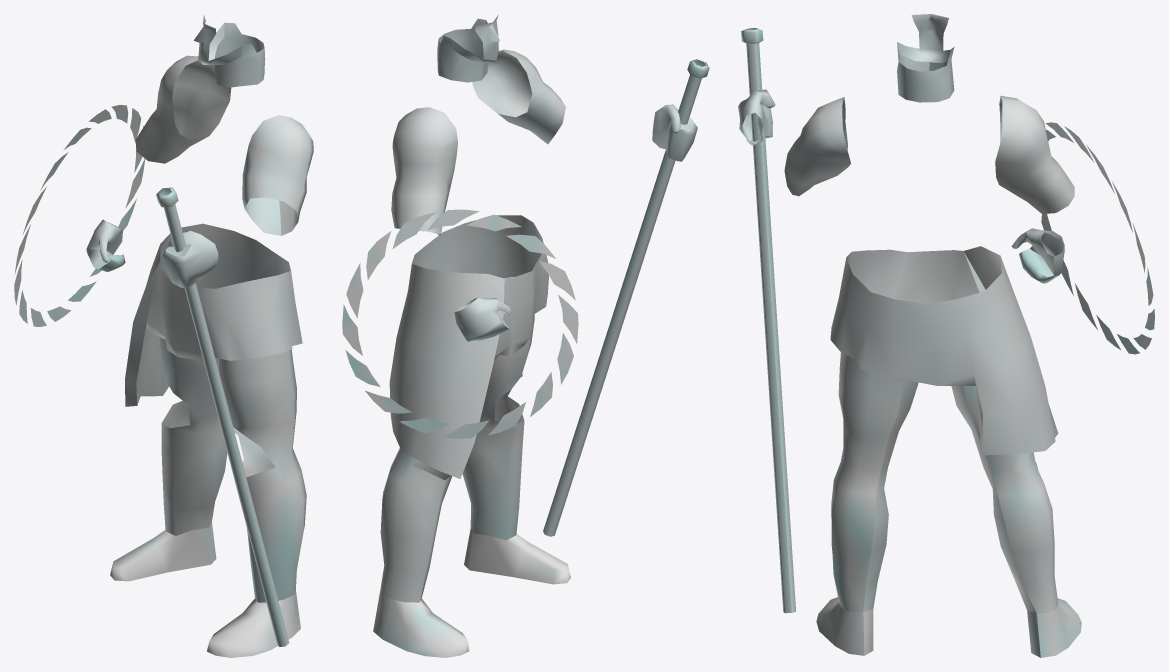
The model's file is tower_top_1_uv.fbx.
3 views of the same model, side by side, from view 1: azimuth 30°, elevation 25°; view 2: azimuth 150°, elevation 25°; view 3: azimuth 270°, elevation 25° (orthographic). The views are drawn at different scales.
Visible parts, largest first — view 1: tower_top_1; view 2: tower_top_1; view 3: tower_top_1.
Boxes of the visible parts, box(x1,y1,x2,y2) form: tower_top_1: box(14, 14, 313, 657); tower_top_1: box(342, 15, 709, 657); tower_top_1: box(738, 14, 1154, 657).
Bounding box in the file's own units: 79.01 × 211 × 131.
